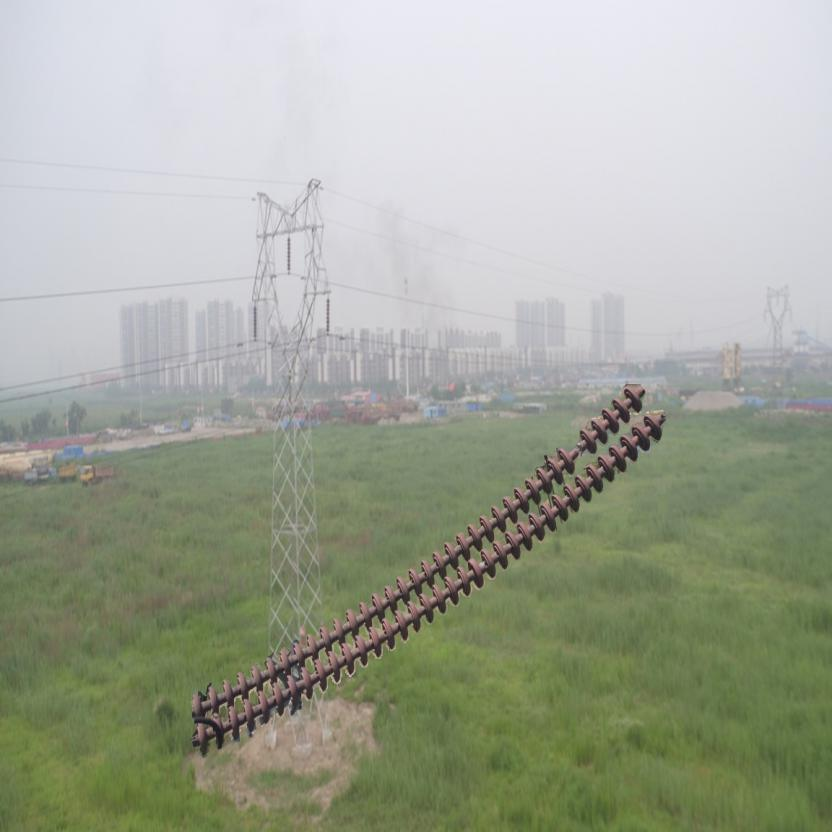defect: (555, 424, 597, 474)
